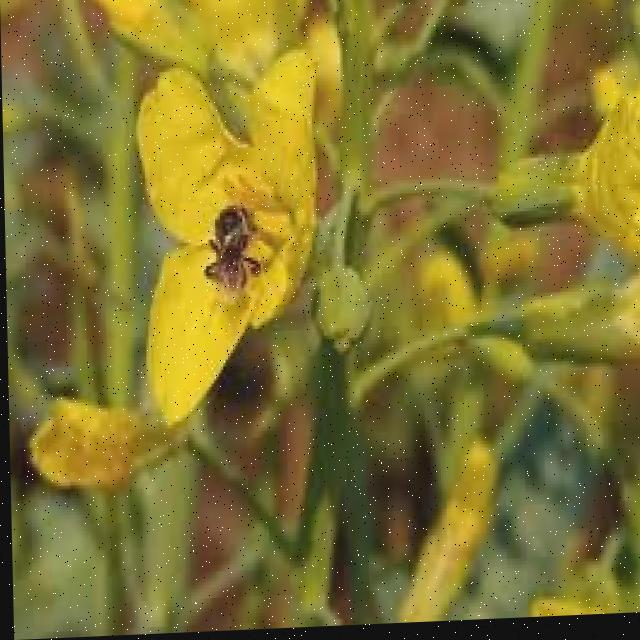Meliponula: (199, 194, 264, 313)
